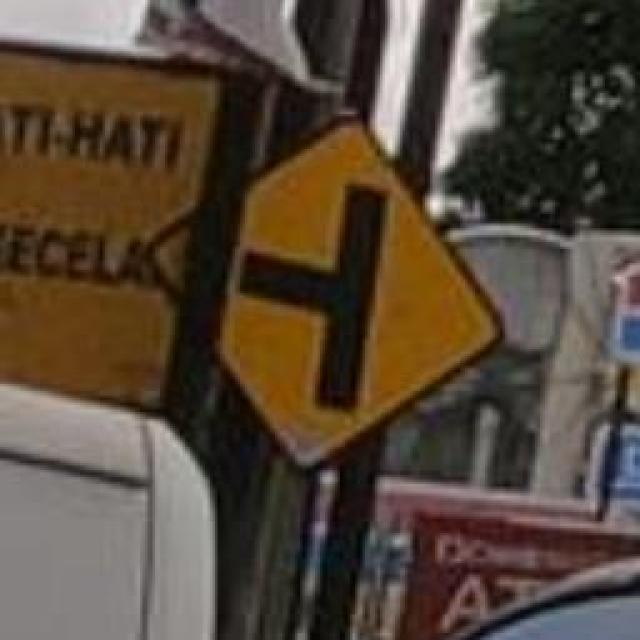traffic sign: (258, 126, 500, 459)
